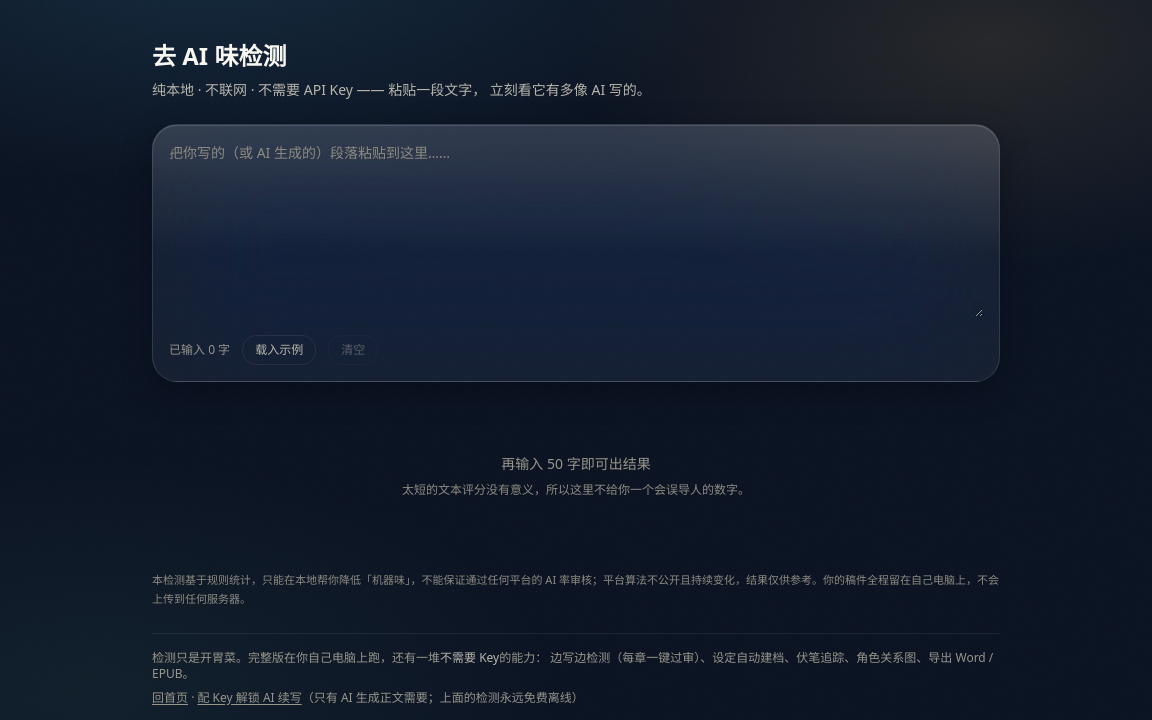
DetectorPanel —— 套用前后对比（v3.1.138） › 撤销回原点后对比条消失
The image size is (1152, 720).
Click the button "载入示例".
click(279, 350)  # box [242, 335, 316, 365]
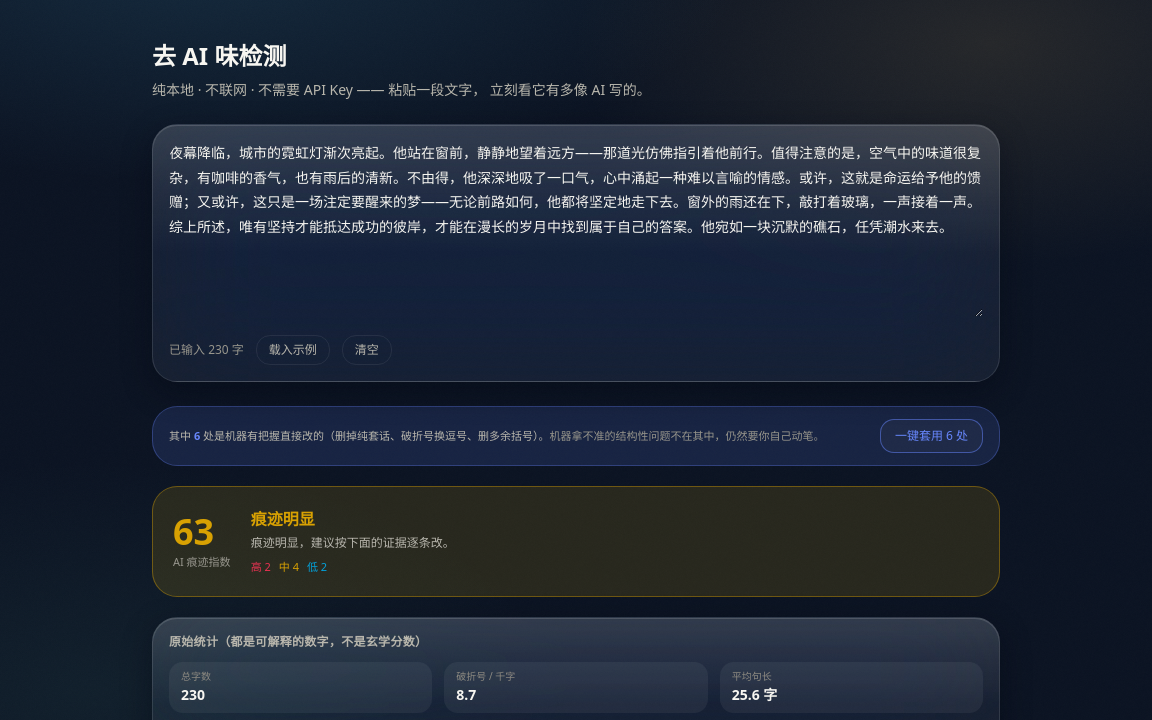
Click the button "一键套用 6 处".
click(931, 436)  # box [880, 419, 983, 453]
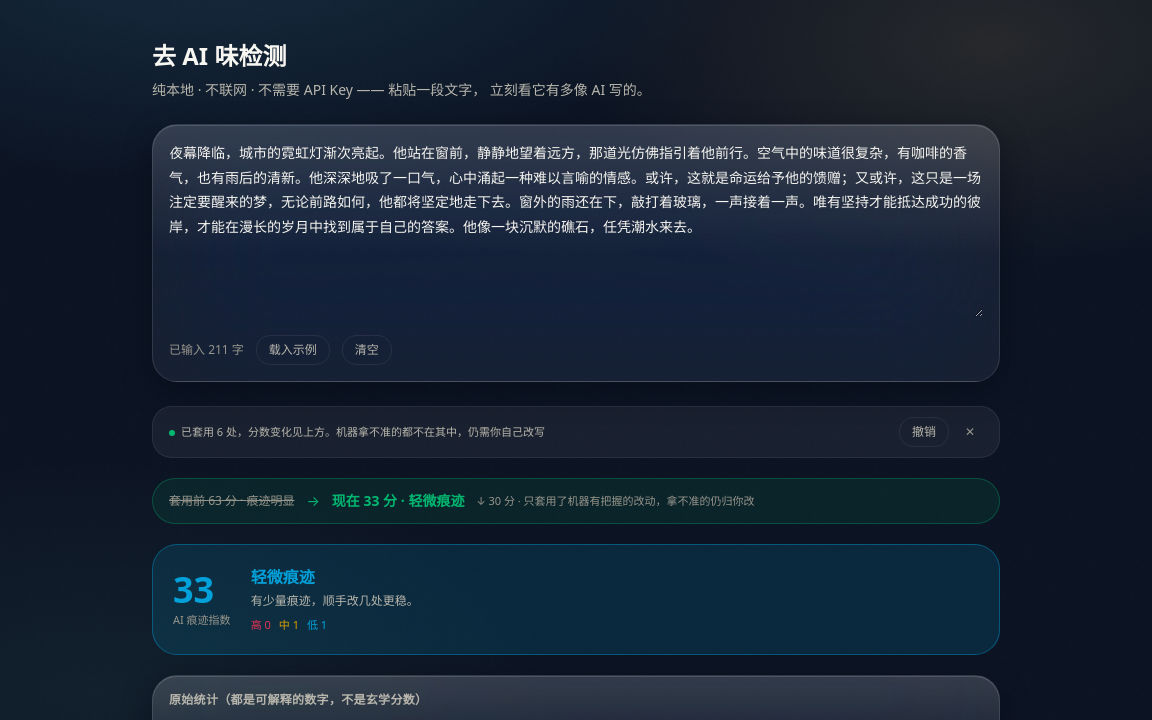
Expected: the text "套用前 63 分 · 痕迹明显" is shown, [169, 493, 294, 509]
Click the button "撤销".
click(924, 432)  # box [899, 417, 949, 447]
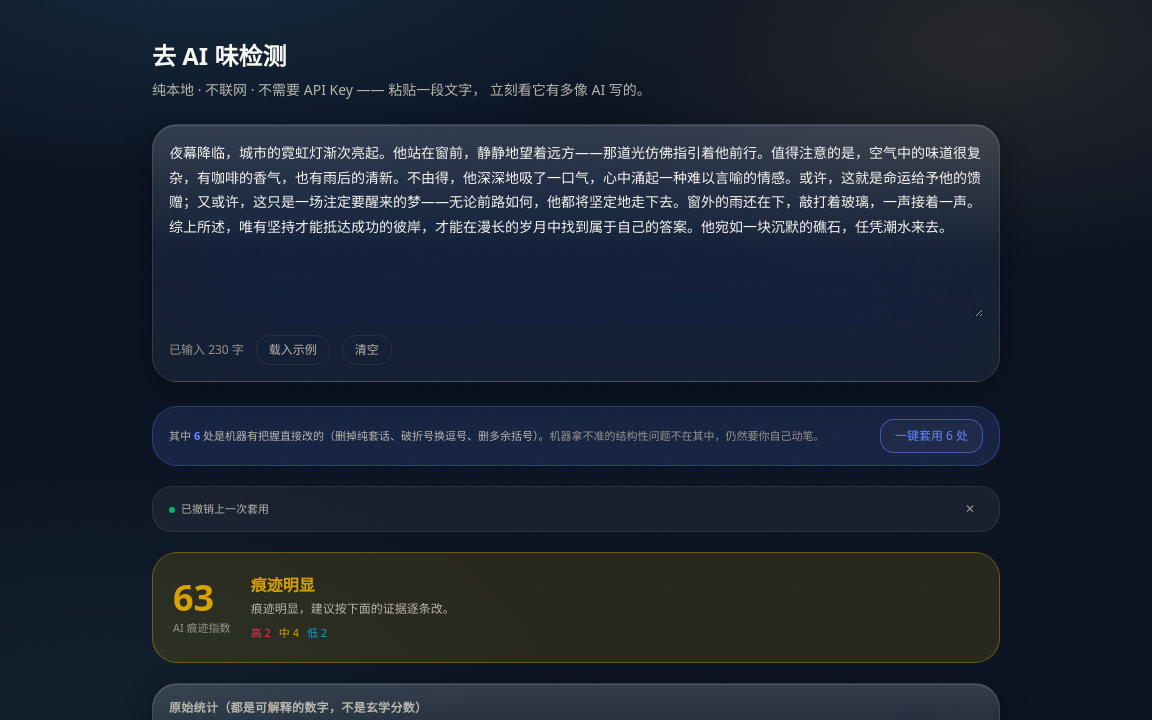
Expected: the text "套用前 63 分 · 痕迹明显" is gone
